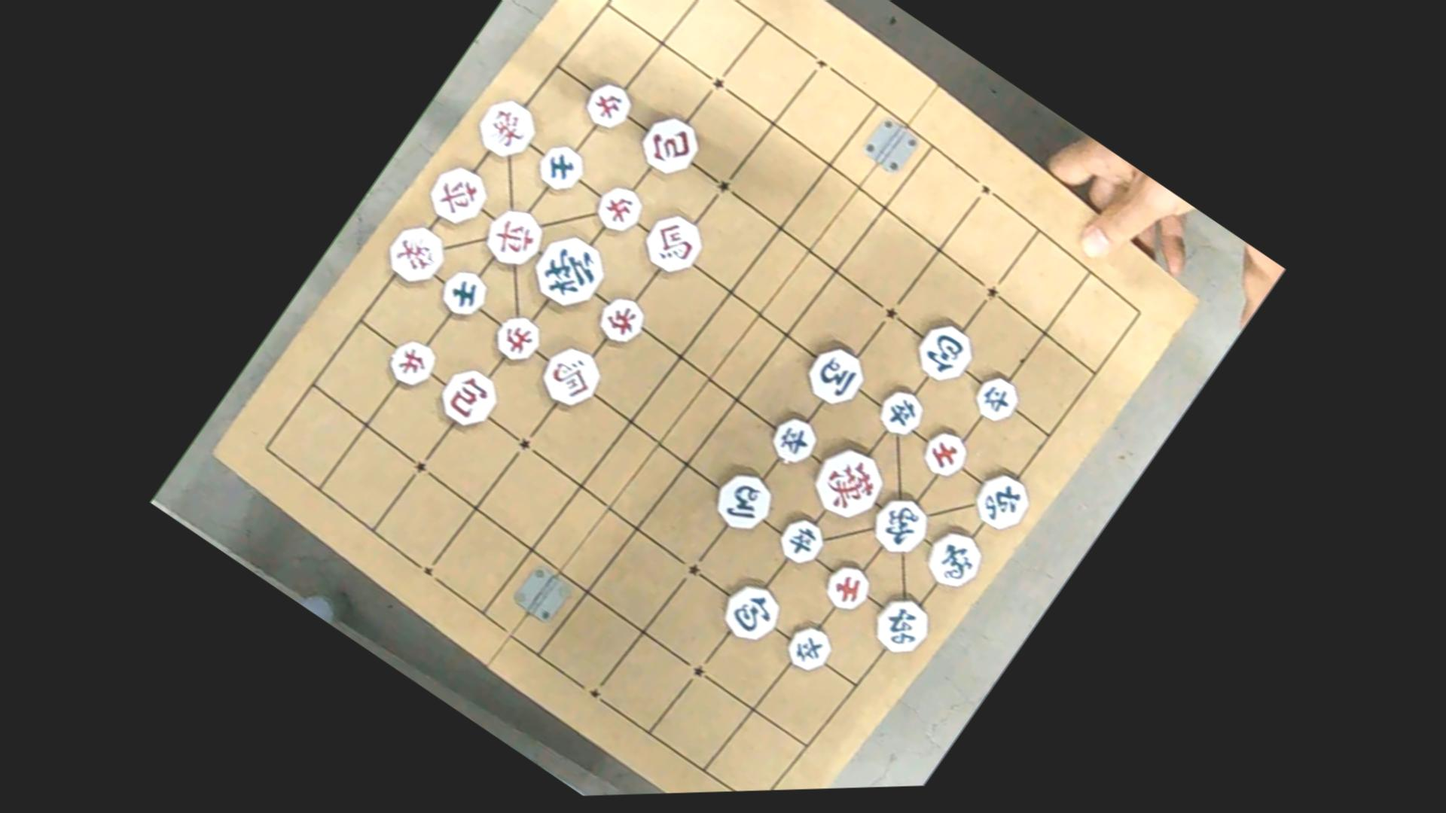cha_green: (963, 461, 1037, 539), (865, 587, 938, 663)
cha_red: (419, 155, 496, 235), (474, 198, 549, 276)
jol_green: (761, 407, 823, 470), (869, 381, 929, 442), (776, 617, 835, 678), (771, 510, 830, 570), (965, 367, 1023, 427)
jol_red: (483, 304, 548, 371), (380, 330, 441, 395), (591, 288, 652, 352), (577, 72, 637, 135), (587, 179, 648, 239)
ma_green: (798, 336, 874, 415), (706, 464, 782, 542)
ma_red: (531, 333, 612, 416), (636, 203, 713, 282)
po_green: (713, 573, 789, 651), (908, 312, 981, 388)
po_red: (634, 108, 709, 186), (432, 358, 506, 434)
sa_green: (432, 262, 493, 323), (529, 136, 589, 198)
sa_red: (912, 422, 973, 485), (815, 556, 875, 619)
sang_green: (861, 484, 936, 563), (918, 525, 987, 594)
sang_red: (470, 90, 545, 168), (378, 216, 453, 293)
wang_green: (525, 225, 611, 313)
wang_red: (798, 434, 893, 531)
